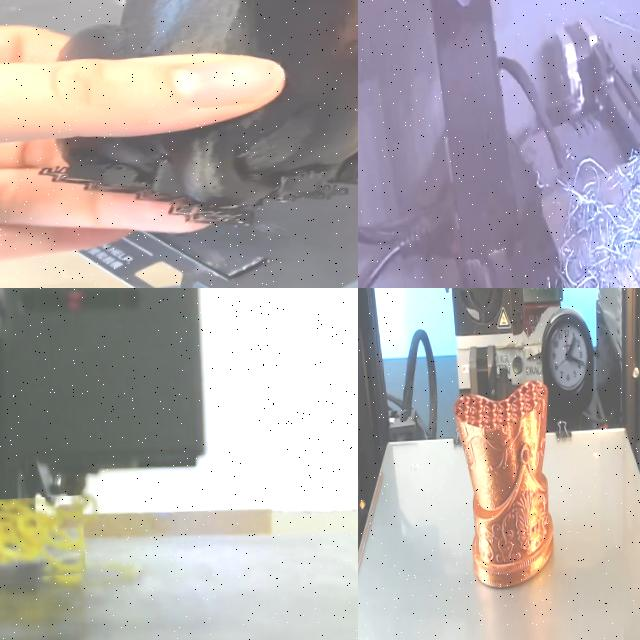spaghetti: (452, 0, 640, 288), (0, 500, 85, 576)
